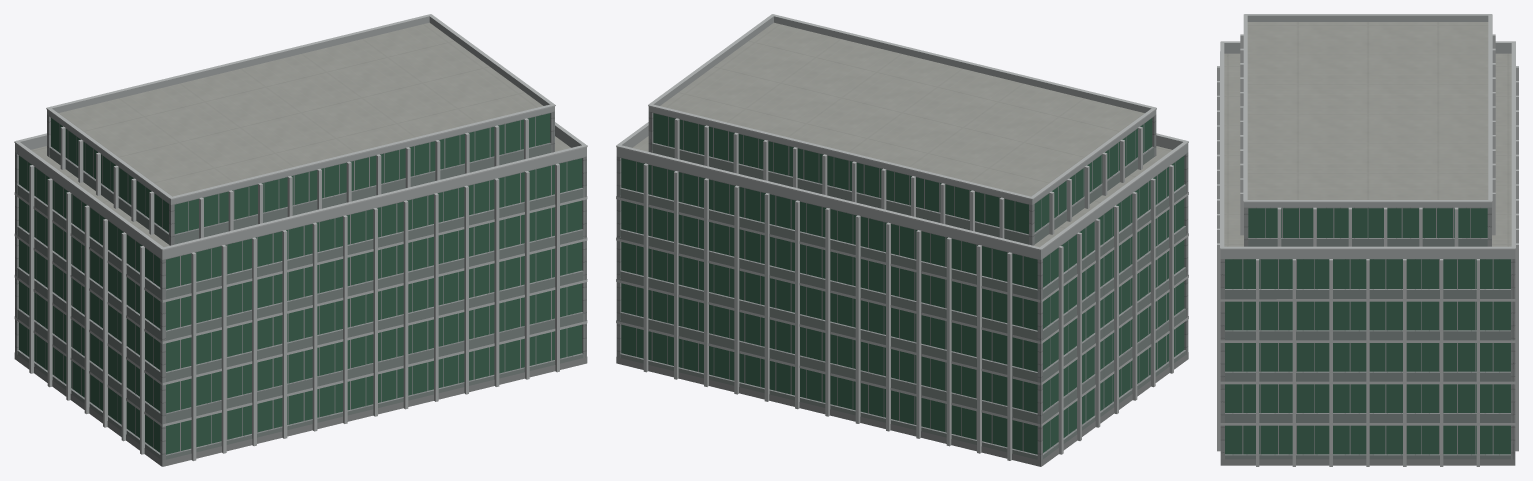
3 renders of one model, left to right at view 1: azimuth 30°, elevation 25°; view 2: azimuth 150°, elevation 25°; view 3: azimuth 270°, elevation 25°, orthographic.
Visible parts, largest first — view 1: woojungInfo__glass, woojungInfo__roof, woojungInfo__trim, woojungInfo__spandrel, woojungInfo__parapet, woojungInfo__wall, woojungInfo__frame, woojungInfo__base; view 2: woojungInfo__glass, woojungInfo__roof, woojungInfo__trim, woojungInfo__spandrel, woojungInfo__parapet, woojungInfo__wall, woojungInfo__frame, woojungInfo__base; view 3: woojungInfo__roof, woojungInfo__glass, woojungInfo__trim, woojungInfo__spandrel, woojungInfo__parapet, woojungInfo__wall, woojungInfo__frame, woojungInfo__base.
Boxes of the visible parts, left/top/right/bottom form: woojungInfo__glass: left=19, top=113, right=582, bottom=454; woojungInfo__roof: left=31, top=22, right=570, bottom=246; woojungInfo__trim: left=14, top=14, right=587, bottom=460; woojungInfo__spandrel: left=17, top=143, right=583, bottom=459; woojungInfo__parapet: left=15, top=16, right=586, bottom=259; woojungInfo__wall: left=15, top=111, right=586, bottom=466; woojungInfo__frame: left=27, top=116, right=567, bottom=451; woojungInfo__base: left=14, top=352, right=587, bottom=466; woojungInfo__glass: left=621, top=113, right=1184, bottom=454; woojungInfo__roof: left=632, top=22, right=1171, bottom=247; woojungInfo__trim: left=616, top=14, right=1188, bottom=460; woojungInfo__spandrel: left=620, top=143, right=1185, bottom=459; woojungInfo__parapet: left=616, top=16, right=1188, bottom=259; woojungInfo__wall: left=616, top=111, right=1188, bottom=466; woojungInfo__frame: left=636, top=116, right=1175, bottom=451; woojungInfo__base: left=616, top=352, right=1188, bottom=466; woojungInfo__roof: left=1224, top=22, right=1511, bottom=246; woojungInfo__glass: left=1225, top=208, right=1510, bottom=454; woojungInfo__trim: left=1217, top=14, right=1518, bottom=466; woojungInfo__spandrel: left=1225, top=239, right=1510, bottom=459; woojungInfo__parapet: left=1220, top=15, right=1515, bottom=258; woojungInfo__wall: left=1220, top=207, right=1515, bottom=459; woojungInfo__frame: left=1242, top=208, right=1493, bottom=454; woojungInfo__base: left=1220, top=459, right=1515, bottom=465.
Bounding box in the file's own units: 42.51 × 24 × 25.83.
8 materials, 2 textured.
